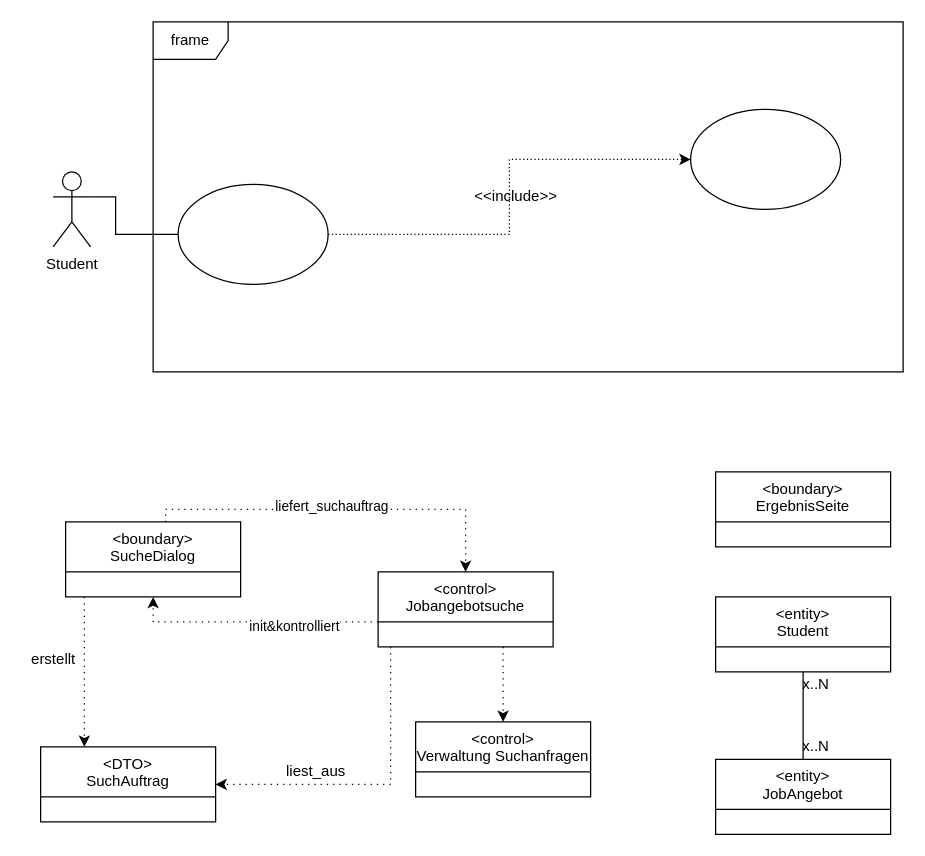
The diagram is 925 pixels wide and 856 high, and some of its shapes have lost their labels. Each missing label, with the centre of its shape:
"Jobangebot suchen" belongs at point 252,233.
"Verwaltung von Suchanfragen" belongs at point 765,158.
